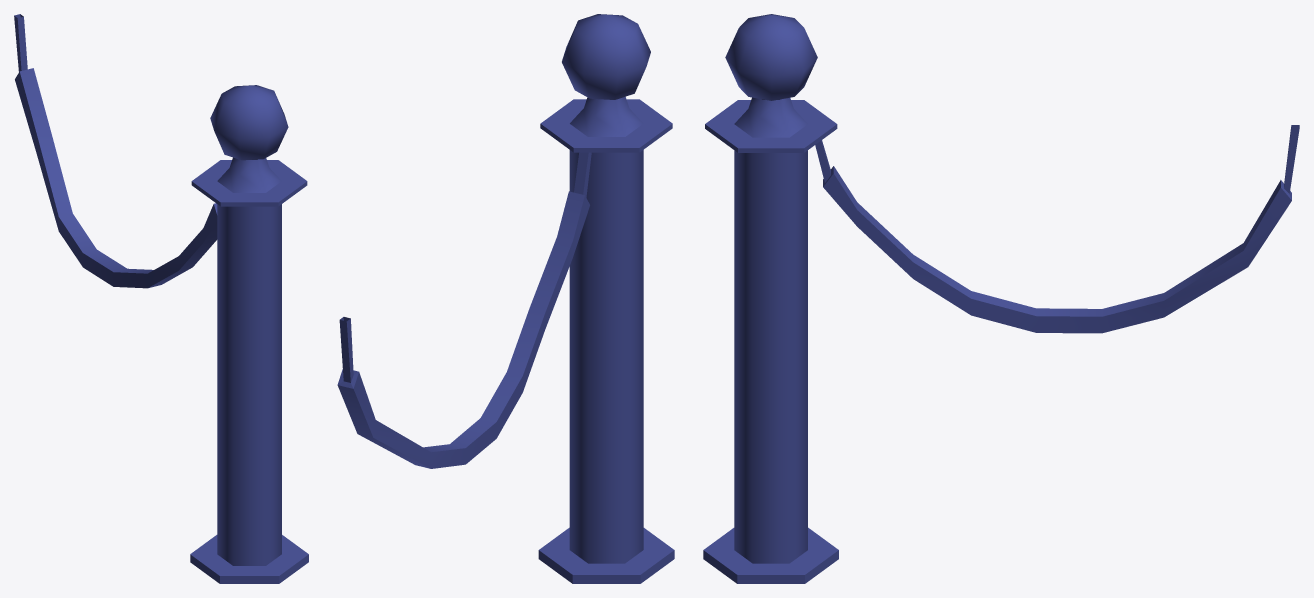
Rendered from SM_Stanchion_02.fbx.
3 renders of one model, left to right at view 1: azimuth 30°, elevation 25°; view 2: azimuth 150°, elevation 25°; view 3: azimuth 270°, elevation 25°, orthographic. The views are drawn at different scales.
Parts seen in each view (by area): view 1: SM_Stanchion_02; view 2: SM_Stanchion_02; view 3: SM_Stanchion_02.
Part boxes in pixels (x1,y1,x2,y2): SM_Stanchion_02: (14,14,308,583); SM_Stanchion_02: (337,14,674,583); SM_Stanchion_02: (703,14,1299,583).
Bounding box in the file's own units: 70.81 × 362 × 360.
